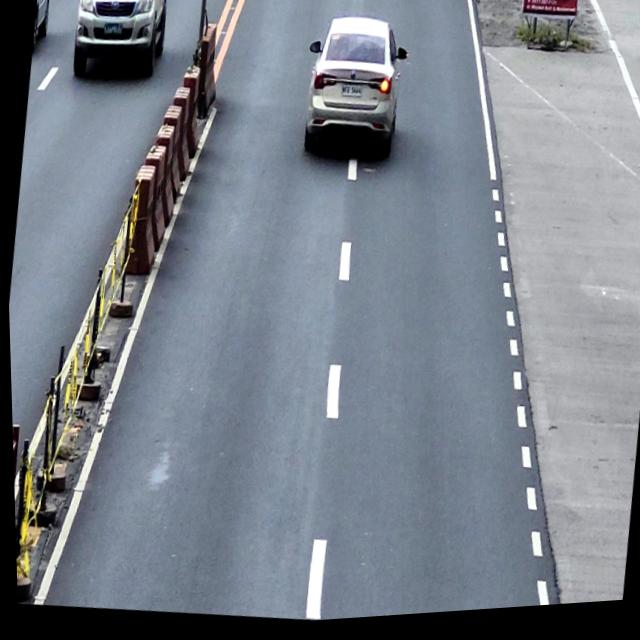Car: (294, 12, 414, 174), (66, 0, 173, 83)
License-Plate: (339, 86, 362, 104), (103, 22, 122, 36)
